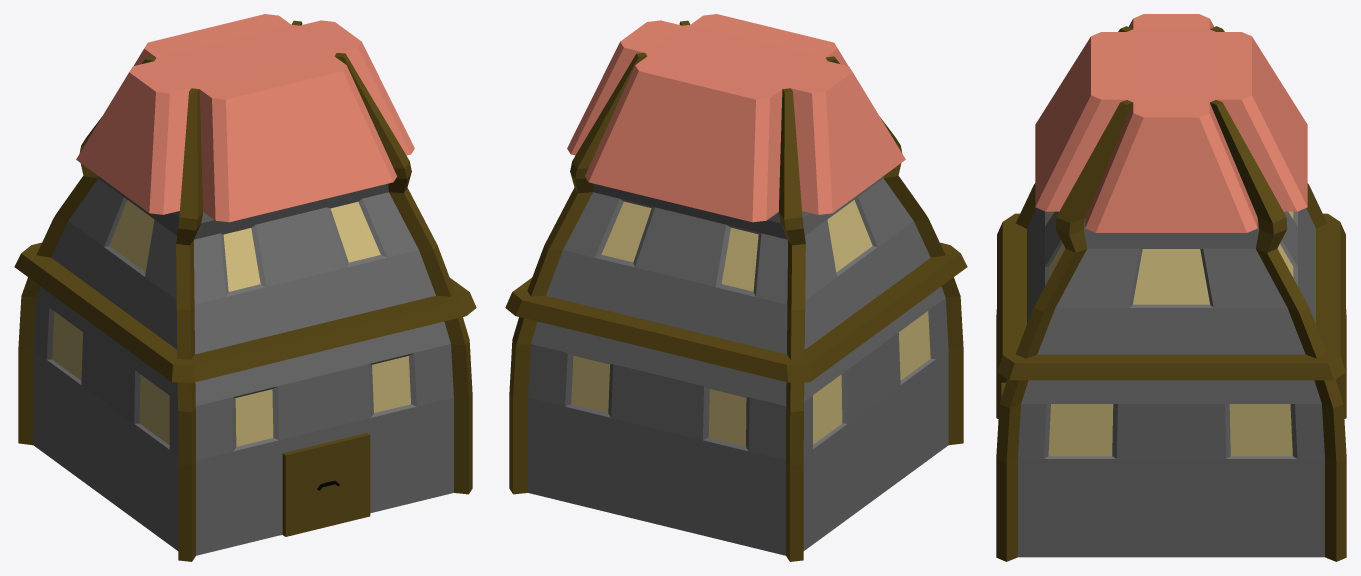
The picture shows the model from 3 angles, left to right: view 1: azimuth 30°, elevation 25°; view 2: azimuth 150°, elevation 25°; view 3: azimuth 270°, elevation 25°; orthographic projection. The views are drawn at different scales.
Parts seen in each view (by area): view 1: Cube, roof.001, Cube.001, door.001; view 2: Cube, roof.001, Cube.001; view 3: Cube, roof.001, Cube.001.
Part boxes in pixels (bbox=[...]): Cube: bbox=[33, 176, 453, 555]; roof.001: bbox=[76, 14, 414, 222]; Cube.001: bbox=[14, 20, 476, 561]; door.001: bbox=[282, 432, 370, 536]; Cube: bbox=[528, 176, 948, 555]; roof.001: bbox=[567, 14, 905, 222]; Cube.001: bbox=[505, 20, 967, 561]; Cube: bbox=[1018, 208, 1324, 557]; roof.001: bbox=[1035, 14, 1307, 232]; Cube.001: bbox=[996, 26, 1346, 561].
Size of the model in its own units: 2378 by 3057 by 2295.
